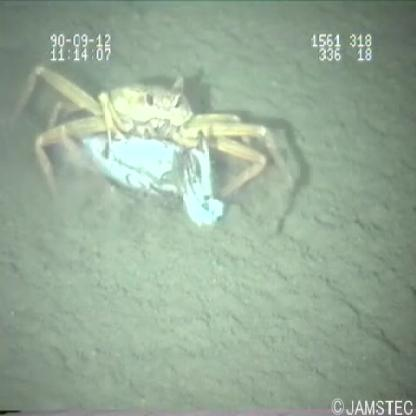Bio: (3, 61, 287, 235)
